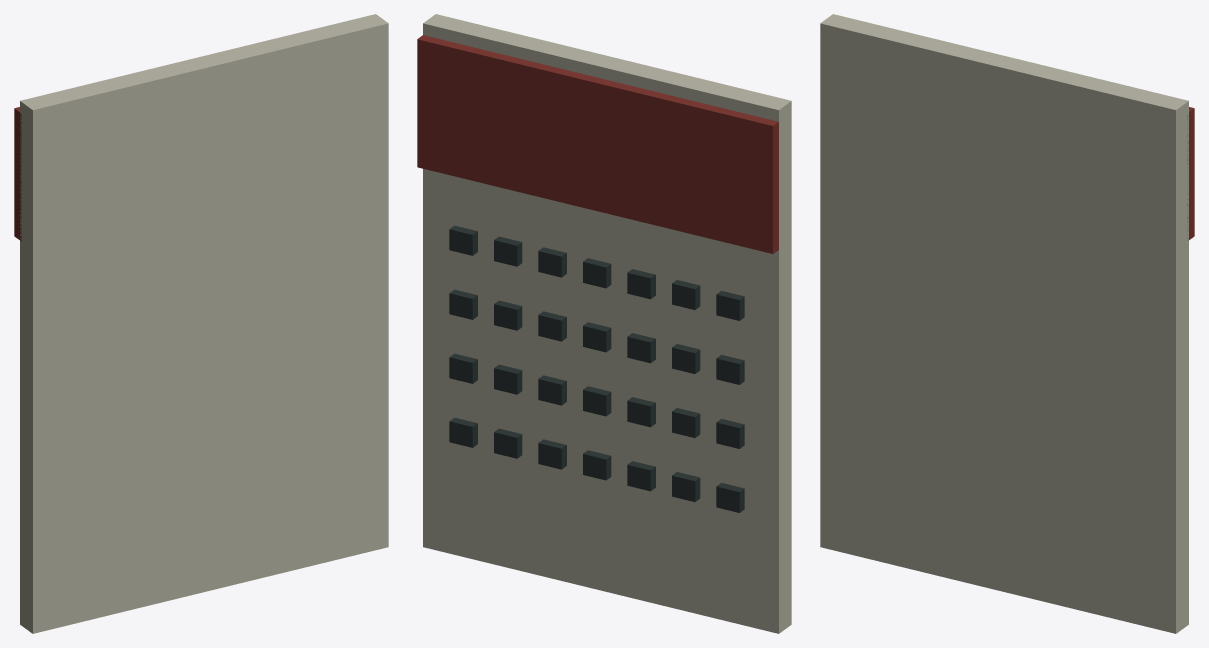
Rendered from calendar.glb.
3 renders of one model, left to right at view 1: azimuth 30°, elevation 25°; view 2: azimuth 150°, elevation 25°; view 3: azimuth 330°, elevation 25°, orthographic.
Parts seen in each view (by area): view 1: calendar; view 2: calendar; view 3: calendar.
Part boxes in pixels (<box>): calendar: <box>14,14,388,633</box>; calendar: <box>417,14,791,633</box>; calendar: <box>820,14,1194,633</box>.
Size of the model in its own units: 0.32 by 0.45 by 0.03.
